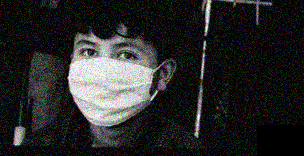with_mask: (67, 37, 158, 128)
